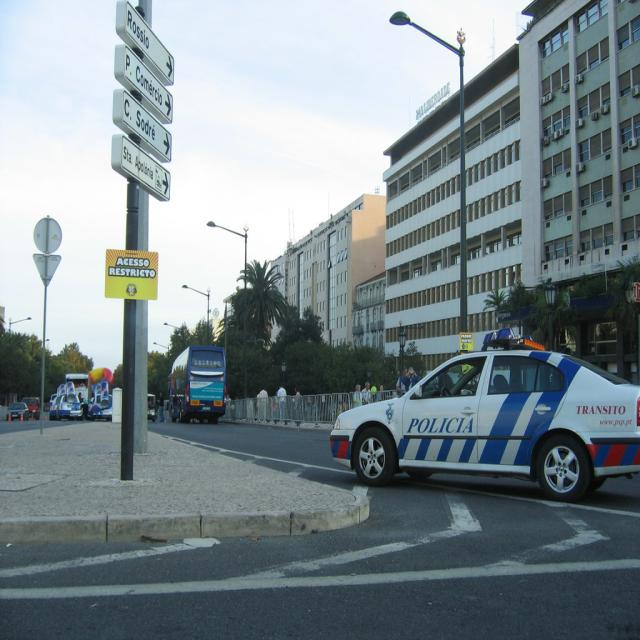car: (321, 338, 631, 503), (59, 389, 84, 419), (4, 398, 30, 419), (90, 394, 110, 417)
